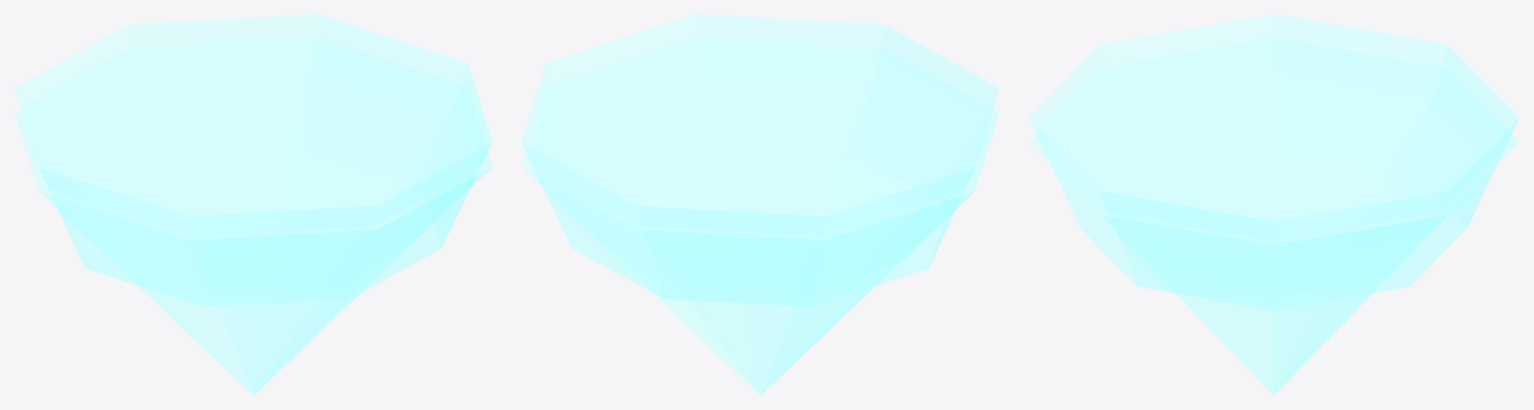
Rendered from GH_Product_CutGem.fbx.
3 views of the same model, side by side, from view 1: azimuth 30°, elevation 25°; view 2: azimuth 150°, elevation 25°; view 3: azimuth 270°, elevation 25° (orthographic).
Visible parts, largest first — view 1: SM_Product_CutGem; view 2: SM_Product_CutGem; view 3: SM_Product_CutGem.
Part boxes in pixels (x1,y1,x2,y2): SM_Product_CutGem: [14, 14, 492, 395]; SM_Product_CutGem: [521, 14, 999, 395]; SM_Product_CutGem: [1028, 14, 1519, 395].
Size of the model in its own units: 0.56 by 0.35 by 0.56.
